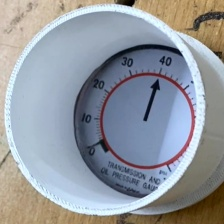gauge: (75, 46, 197, 199)
